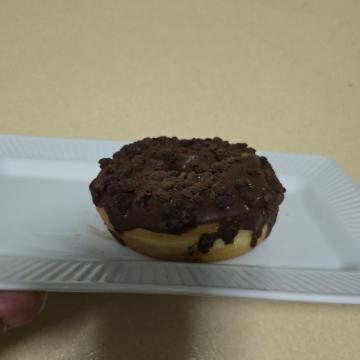doughnut: (118, 65, 276, 285)
